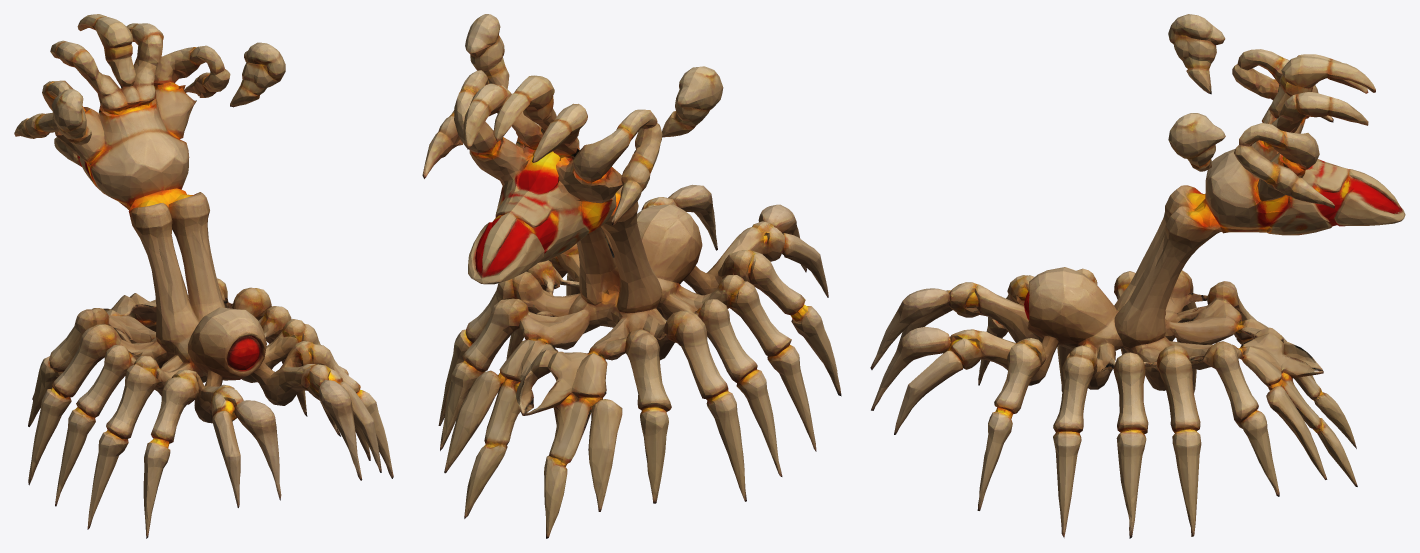
The model's file is trellis-1.glb.
The picture shows the model from 3 angles, left to right: view 1: azimuth 30°, elevation 25°; view 2: azimuth 150°, elevation 25°; view 3: azimuth 270°, elevation 25°; orthographic projection. The views are drawn at different scales.
Visible parts, largest first — view 1: world; view 2: world; view 3: world.
Boxes of the visible parts, x1=… form: world: x1=14, y1=14, x2=393, y2=538; world: x1=422, y1=14, x2=841, y2=538; world: x1=870, y1=14, x2=1405, y2=538.
Size of the model in its own units: 0.6473 by 0.8467 by 1.
Materials: 1 (1 with a texture image).
